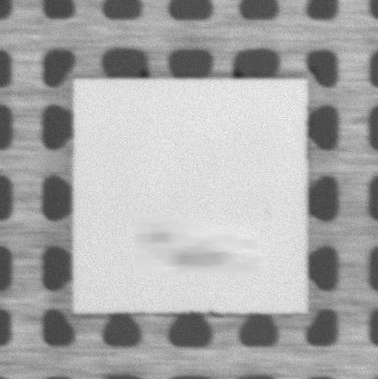DIE_INK: (104, 195, 297, 295)
